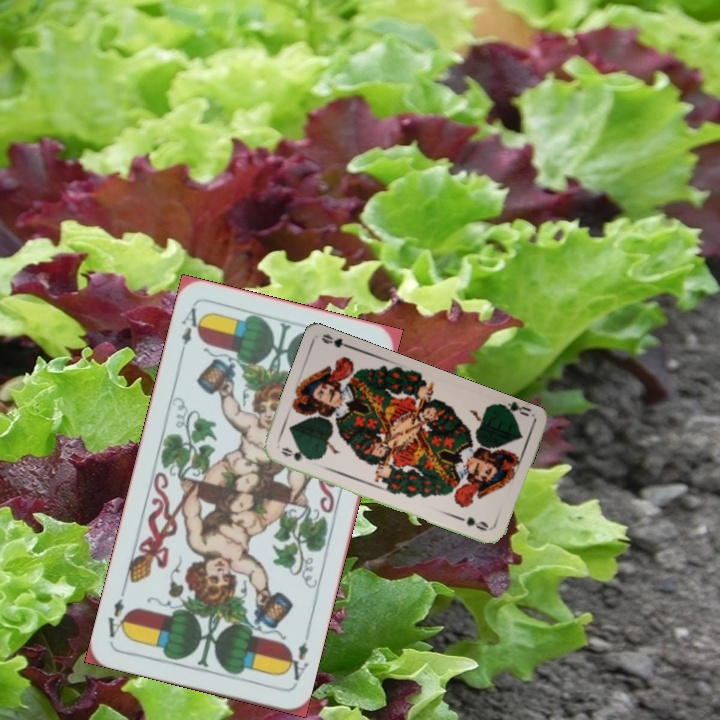EA: (175, 303, 207, 361), (280, 637, 311, 688)
GO: (494, 399, 533, 422), (276, 443, 316, 464)
